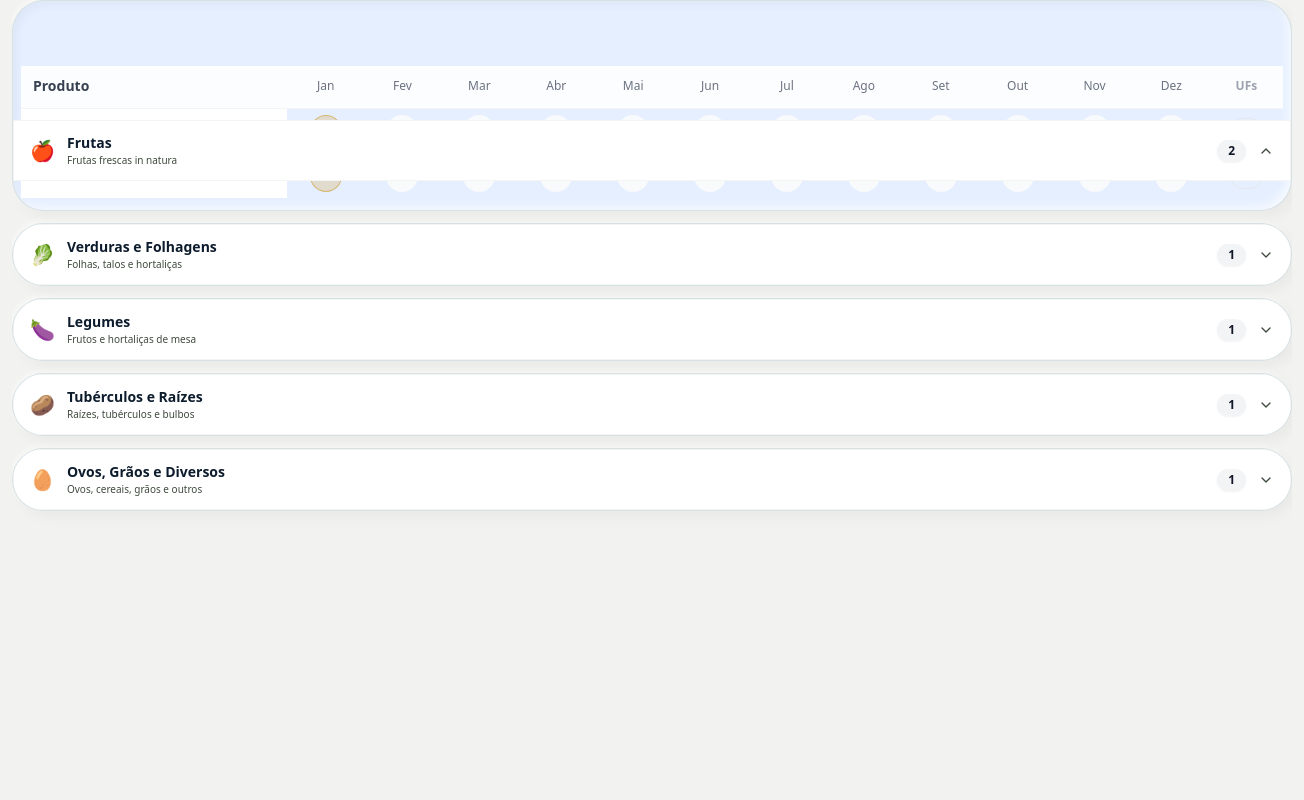
Test: GradeSazonalAcordeao › expande ao clicar e permite múltiplos grupos abertos
# Abre Verduras
Click the button "🥬 Verduras e Folhagens Folhas, talos e hortaliças 1".
click(142, 246)  # box x1=13 y1=224 x2=1291 y2=285
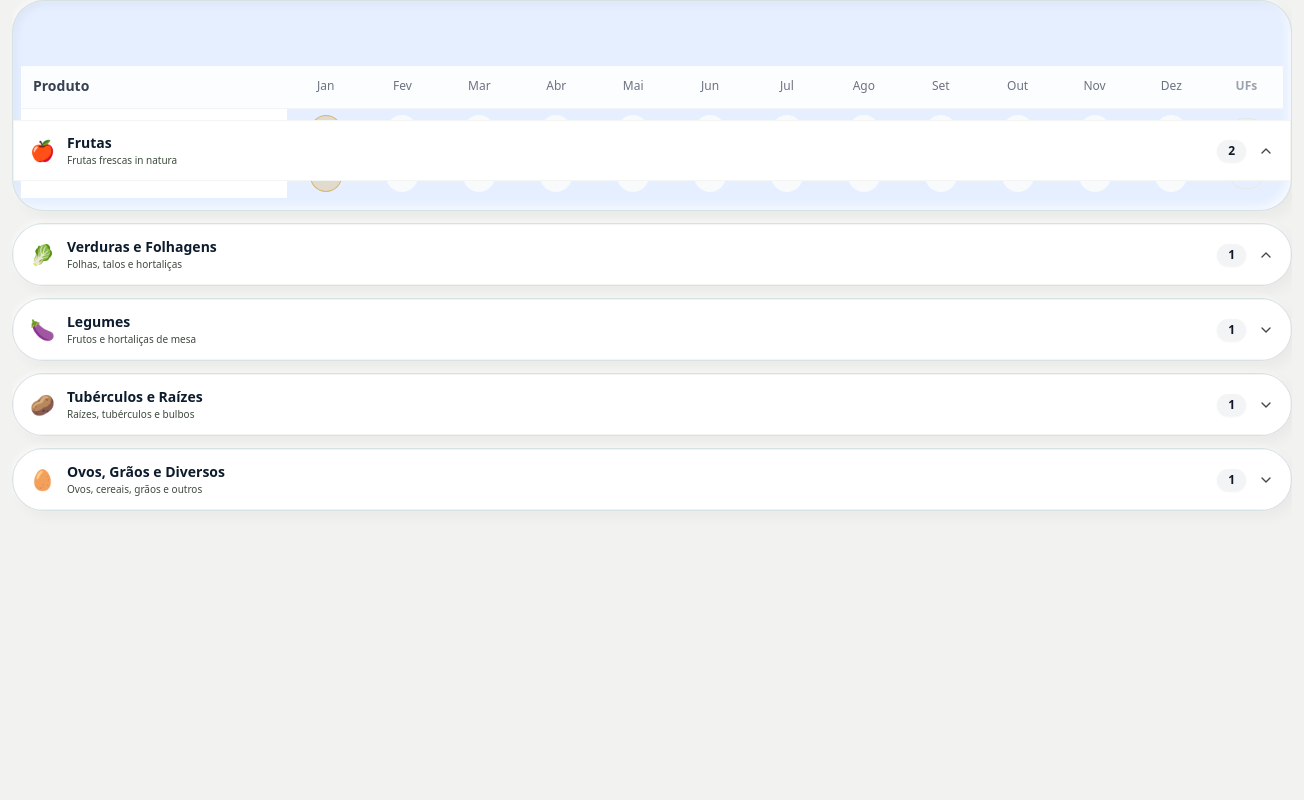
# Abre Legumes — Frutas continua aberta (múltiplos simultâneos)
Click the button "🍆 Legumes Frutos e hortaliças de mesa 1".
click(99, 322)  # box x1=13 y1=299 x2=1291 y2=360
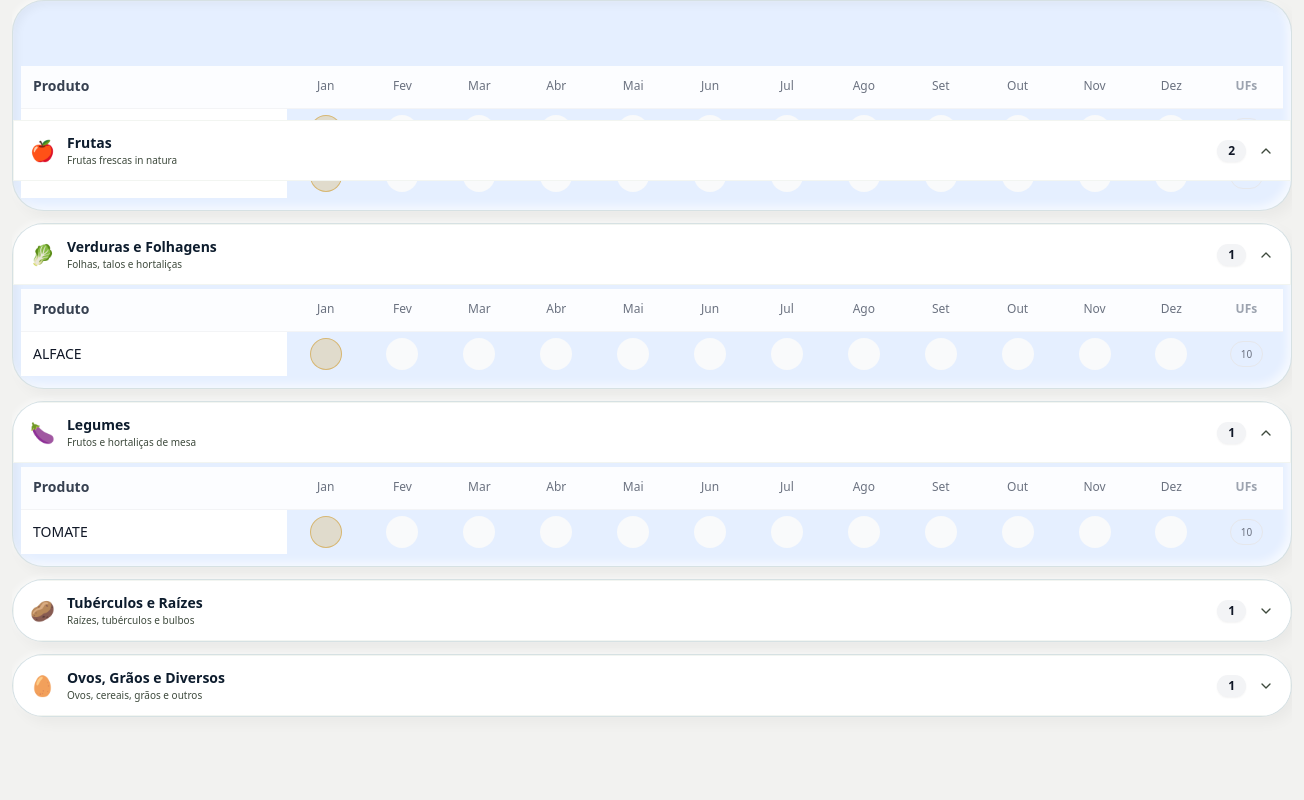
Expected: the text "BANANA" is shown, x1=21 y1=108 x2=287 y2=154
Expected: the text "TOMATE" is shown, x1=21 y1=510 x2=287 y2=554
